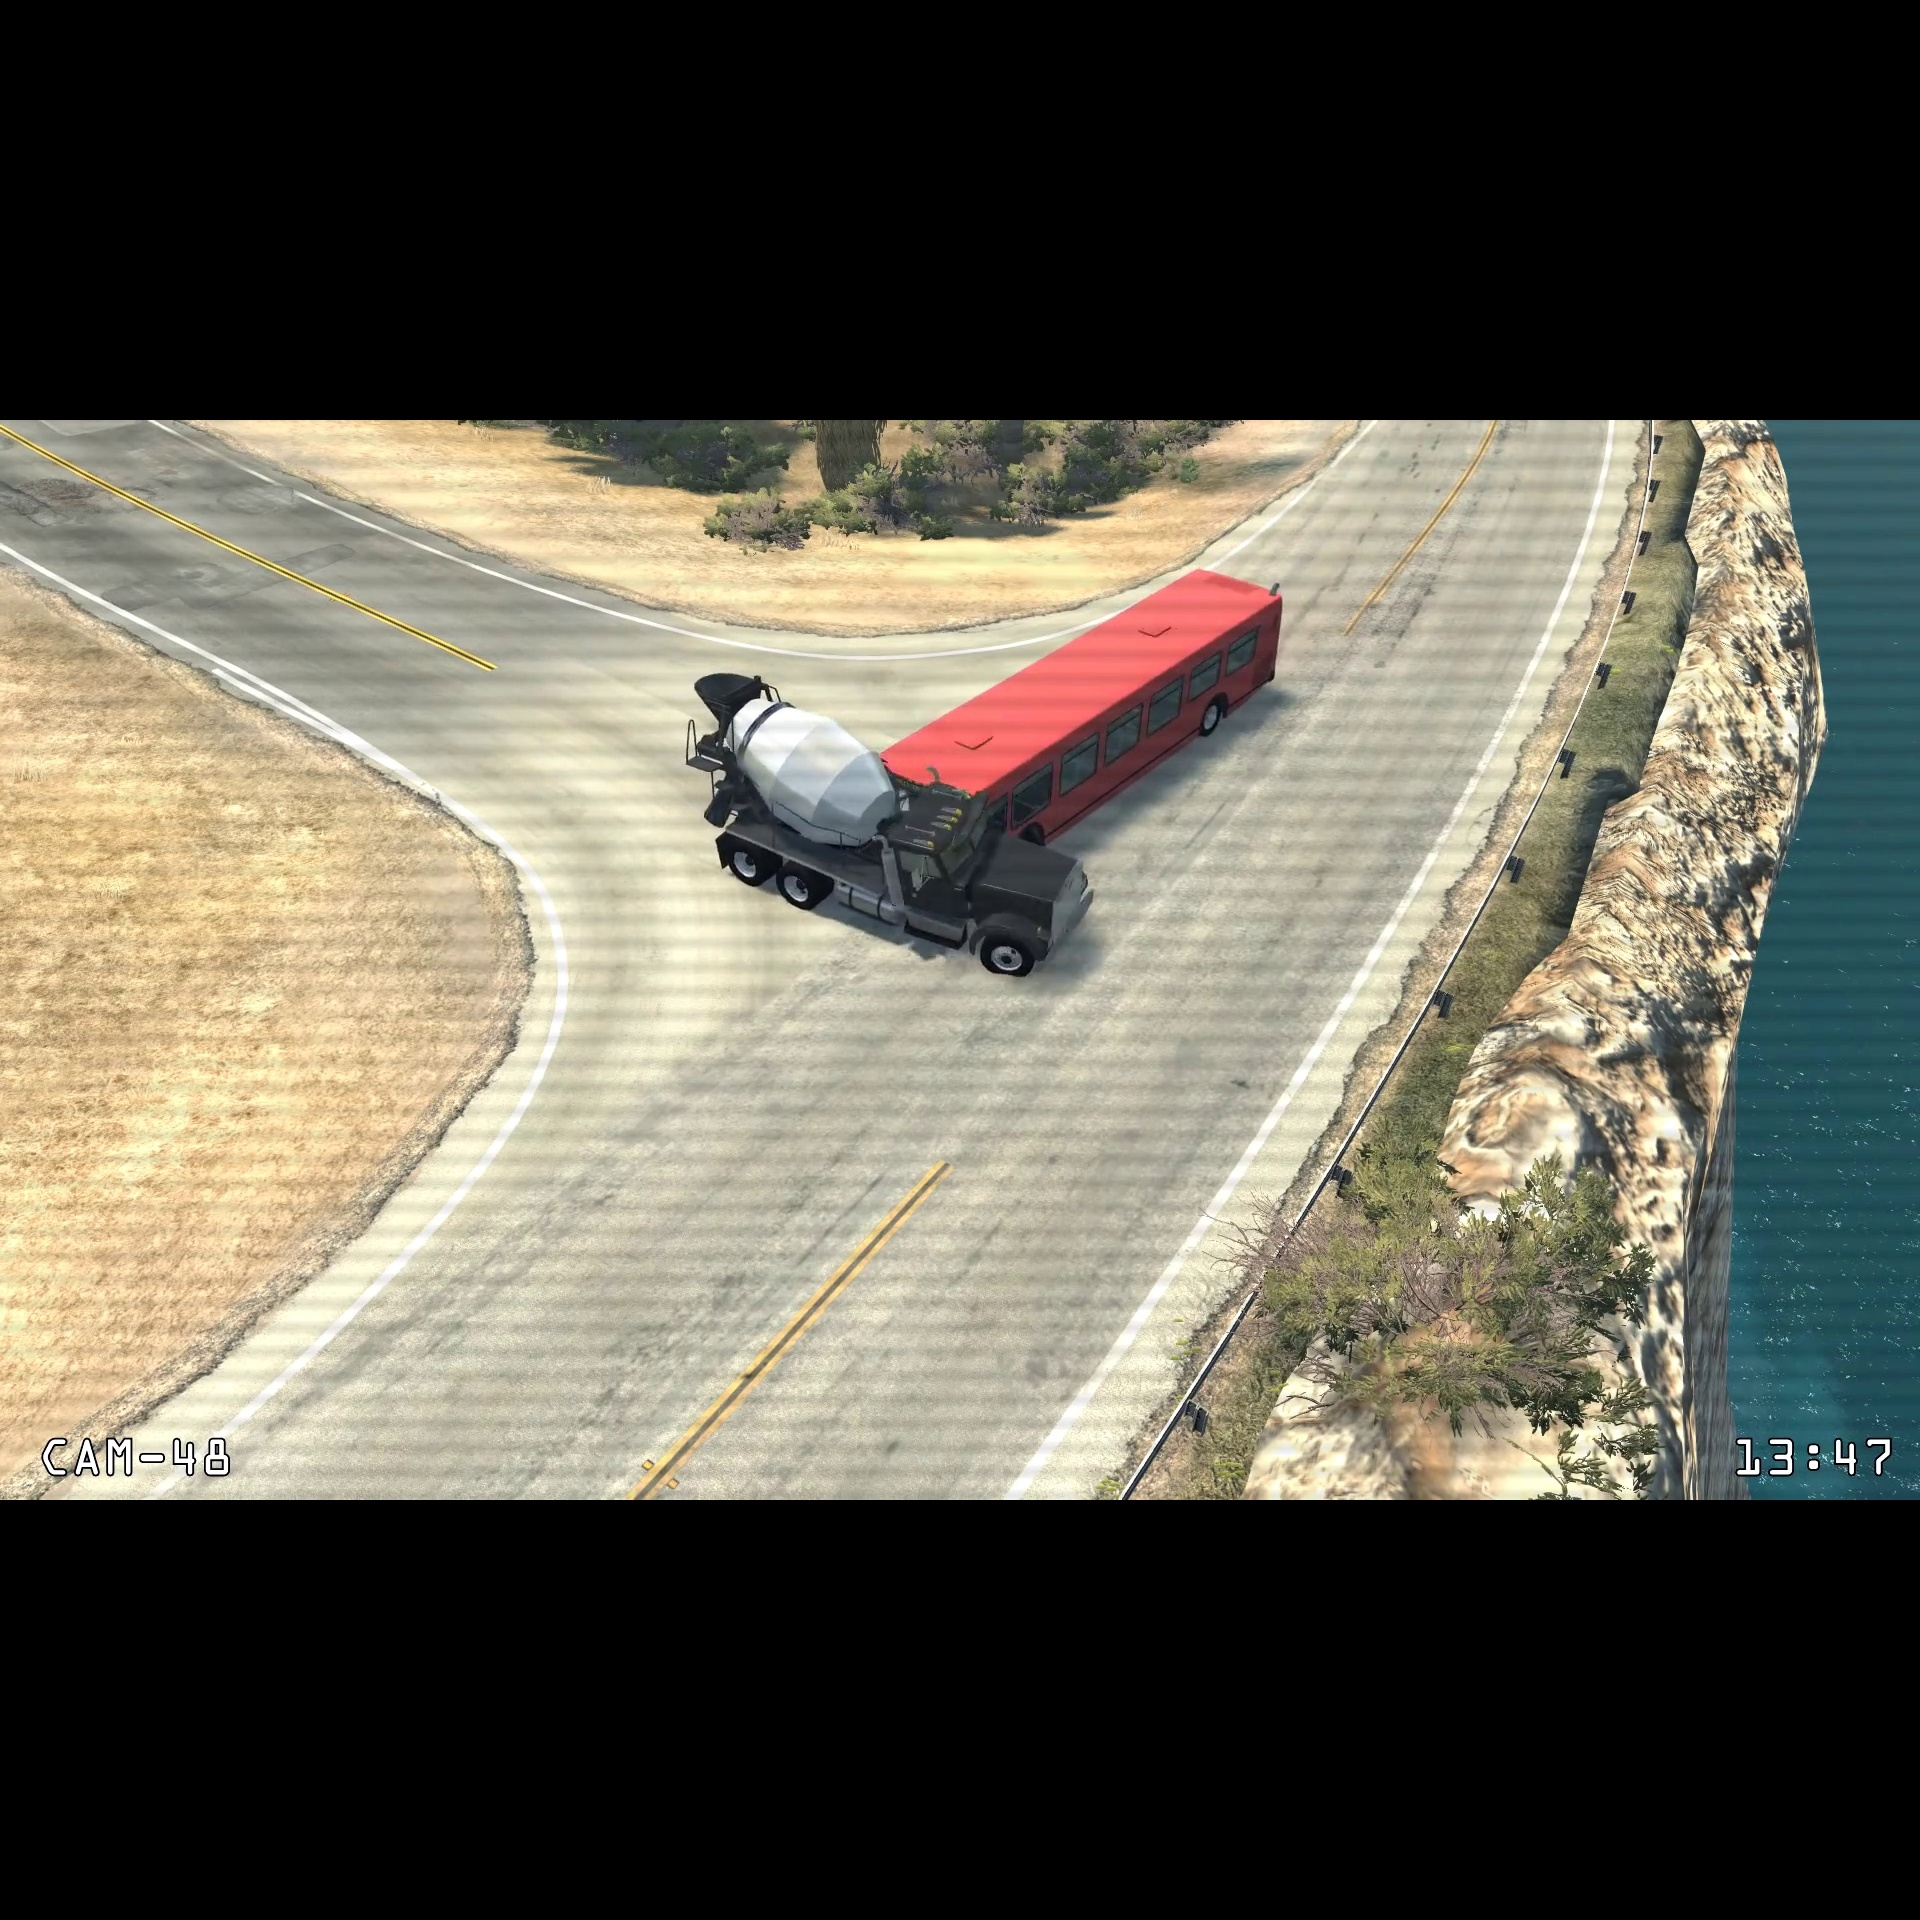vehicle: (672, 665, 1094, 979), (879, 556, 1296, 849)
